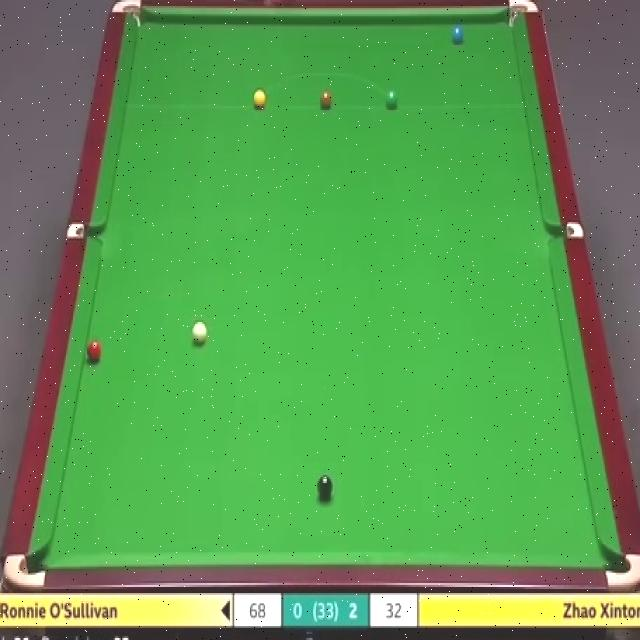black-ball: (317, 474, 333, 501)
blue-ball: (450, 26, 466, 45)
brown-ball: (319, 92, 333, 108)
green-ball: (385, 88, 399, 111)
red-ball: (87, 339, 102, 363)
white-ball: (192, 320, 206, 344)
yellow-ball: (252, 88, 267, 110)
